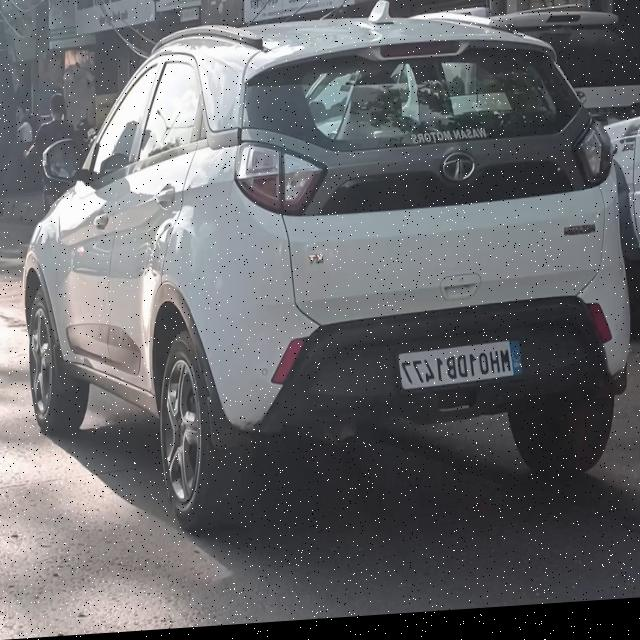plate: (398, 345, 524, 397)
